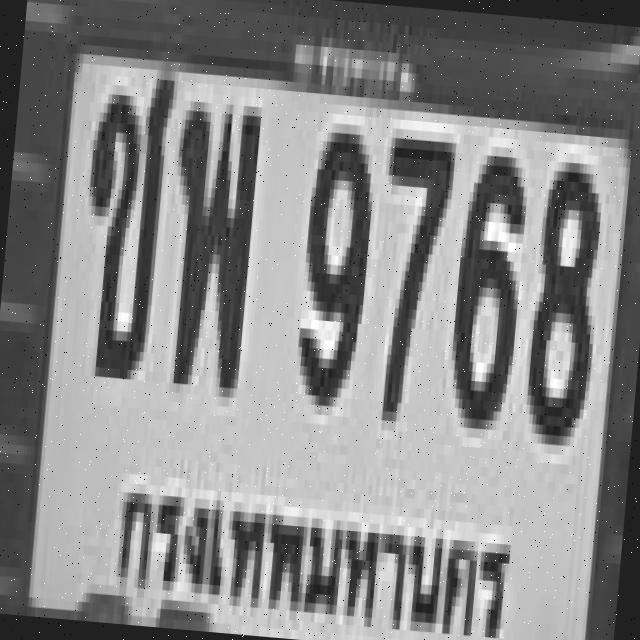19ChorChang: (70, 64, 171, 370)
39PhorPan: (158, 91, 258, 388)
6: (442, 144, 528, 420)
7: (364, 128, 453, 414)
8: (520, 151, 602, 437)
9: (290, 122, 375, 398)
Bangkok: (106, 459, 520, 640)
